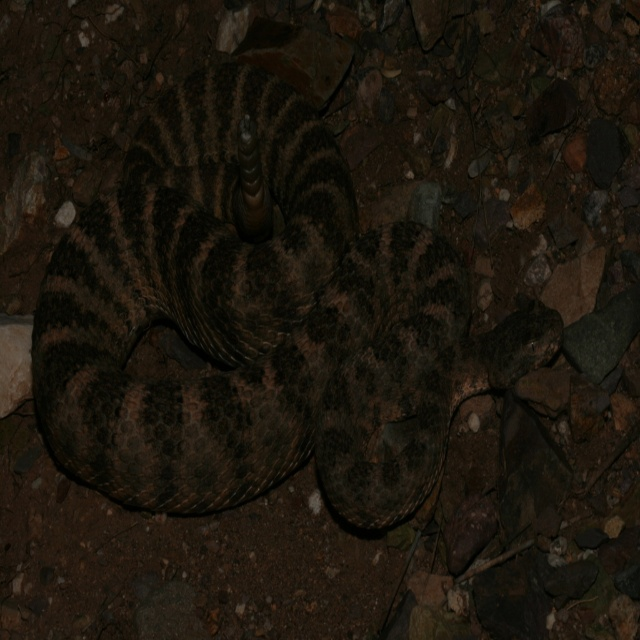Snake: (26, 62, 566, 535)
